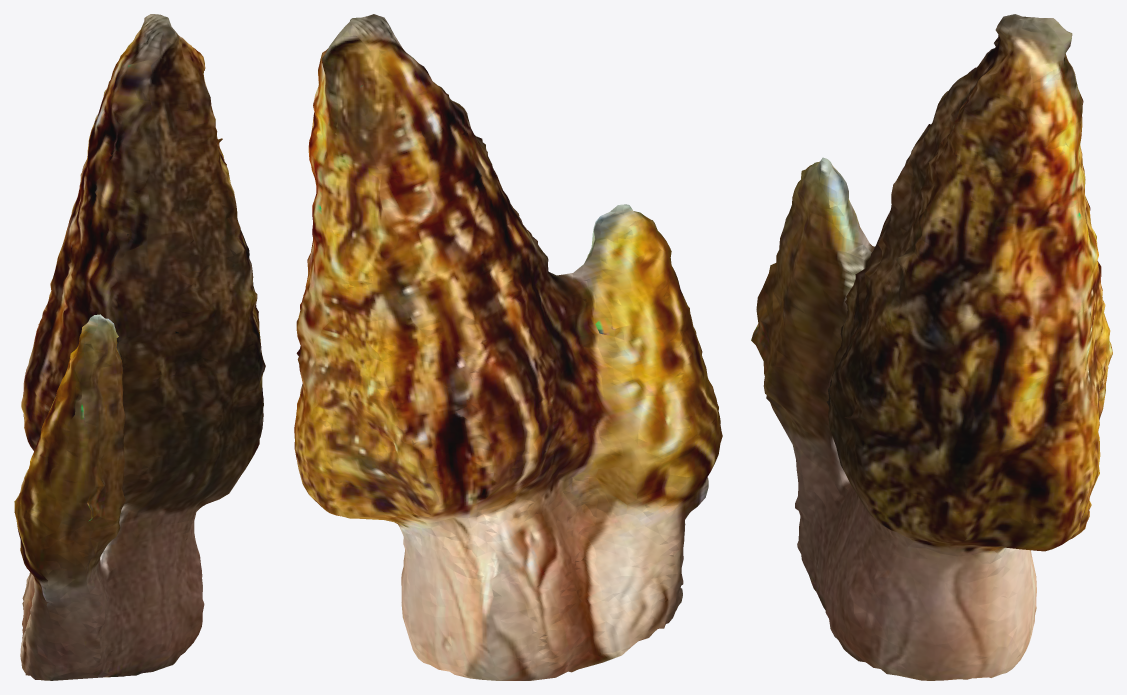
The picture shows the model from 3 angles, left to right: view 1: azimuth 30°, elevation 25°; view 2: azimuth 150°, elevation 25°; view 3: azimuth 270°, elevation 25°; orthographic projection. The views are drawn at different scales.
Parts seen in each view (by area): view 1: Object_2; view 2: Object_2; view 3: Object_2.
Part boxes in pixels (<box>): Object_2: <box>14,14,265,680</box>; Object_2: <box>294,14,722,680</box>; Object_2: <box>751,14,1112,680</box>.
Bounding box in the file's own units: 0.3887 × 0.7414 × 0.3561.
Materials: 1 (1 with a texture image).
